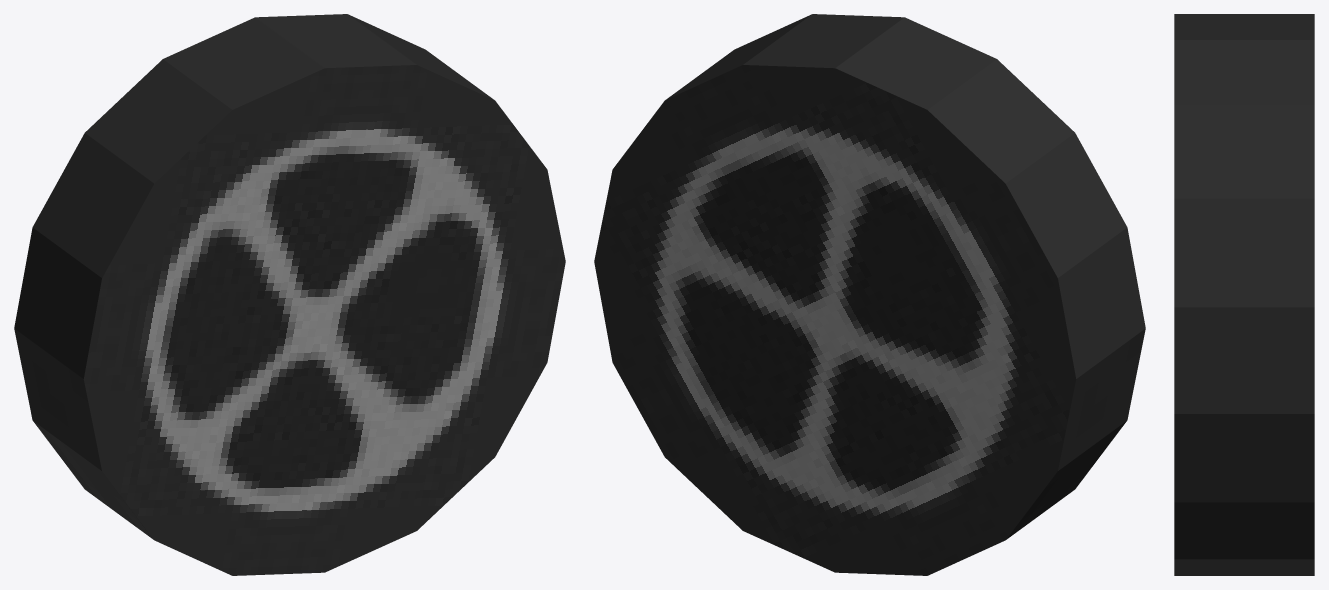
Rendered from wheel.obj.
3 views of the same model, side by side, from view 1: azimuth 30°, elevation 25°; view 2: azimuth 150°, elevation 25°; view 3: azimuth 270°, elevation 25° (orthographic).
Visible parts, largest first — view 1: Cylinder; view 2: Cylinder; view 3: Cylinder.
Boxes of the visible parts, x1=… form: Cylinder: x1=14, y1=14, x2=565, y2=575; Cylinder: x1=594, y1=14, x2=1145, y2=575; Cylinder: x1=1174, y1=14, x2=1314, y2=575.
Bounding box in the file's own units: 2.5 × 2.5 × 0.625.
